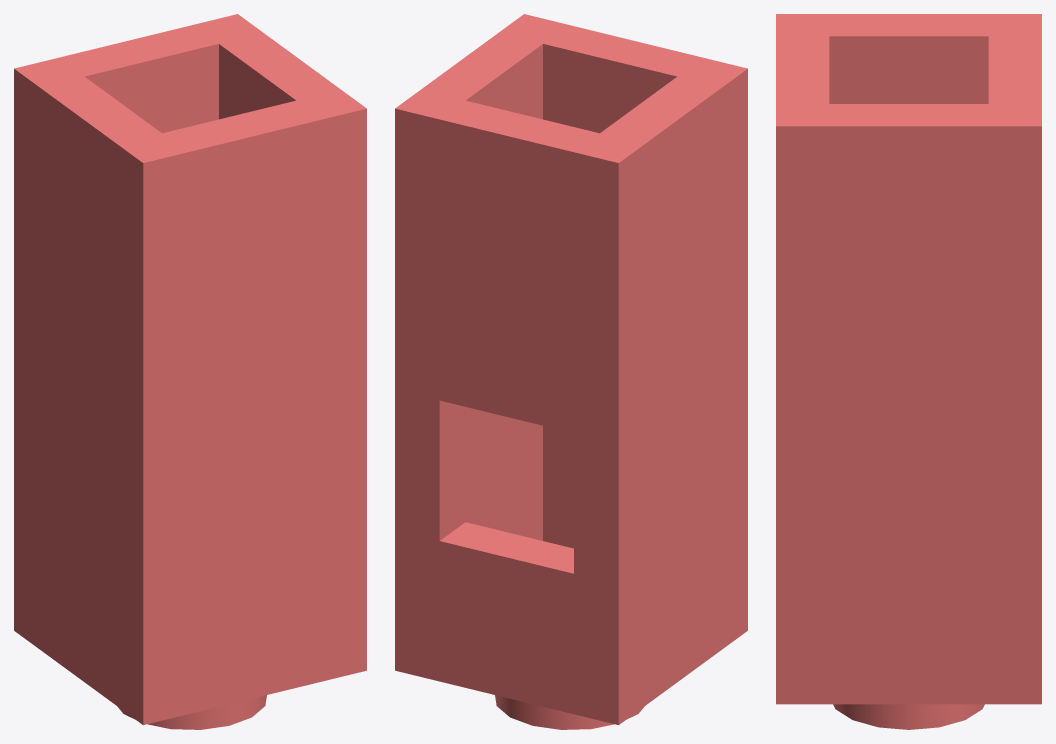
The picture shows the model from 3 angles, left to right: view 1: azimuth 30°, elevation 25°; view 2: azimuth 150°, elevation 25°; view 3: azimuth 270°, elevation 25°; orthographic projection. The views are drawn at different scales.
Parts seen in each view (by area): view 1: LDrawPart; view 2: LDrawPart; view 3: LDrawPart.
Part boxes in pixels (x1,y1,x2,y2): LDrawPart: (14,14,366,729); LDrawPart: (395,14,747,729); LDrawPart: (776,14,1041,729).
Size of the model in its own units: 0.14 by 0.364 by 0.14.
